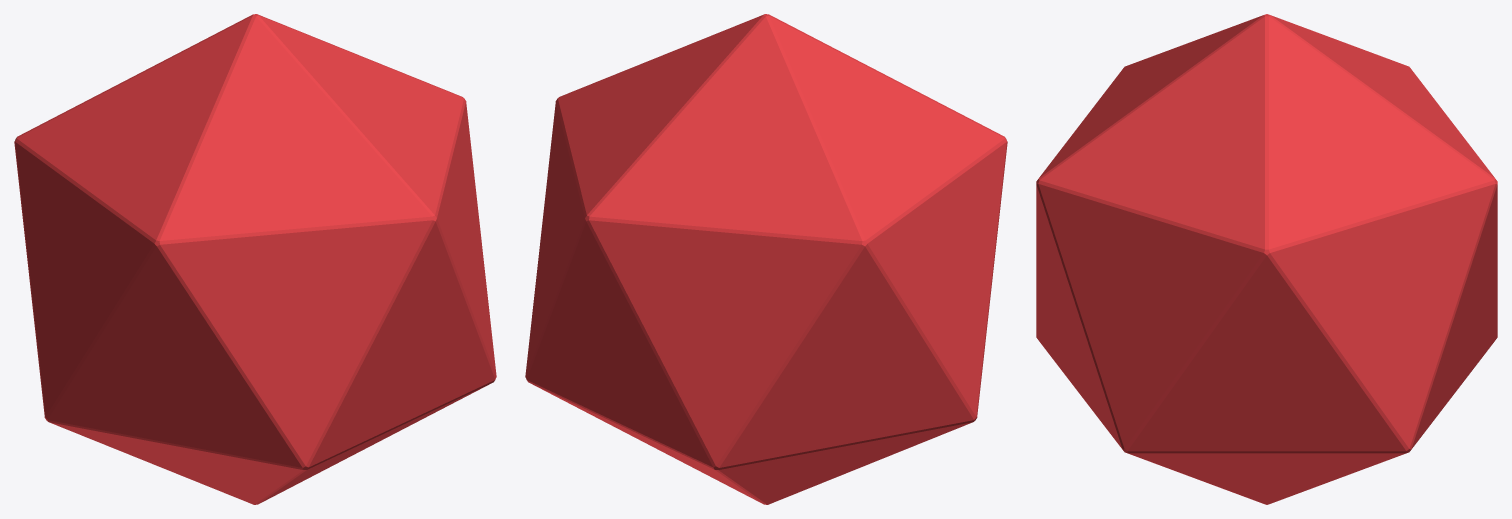
File: prova.glb
3 renders of one model, left to right at view 1: azimuth 30°, elevation 25°; view 2: azimuth 150°, elevation 25°; view 3: azimuth 270°, elevation 25°, orthographic.
Parts seen in each view (by area): view 1: Icosphere; view 2: Icosphere; view 3: Icosphere.
Boxes of the visible parts, bbox=[...] form: Icosphere: bbox=[14, 14, 496, 504]; Icosphere: bbox=[525, 14, 1007, 504]; Icosphere: bbox=[1036, 14, 1497, 504].
Size of the model in its own units: 1.78 by 1.98 by 1.7.
